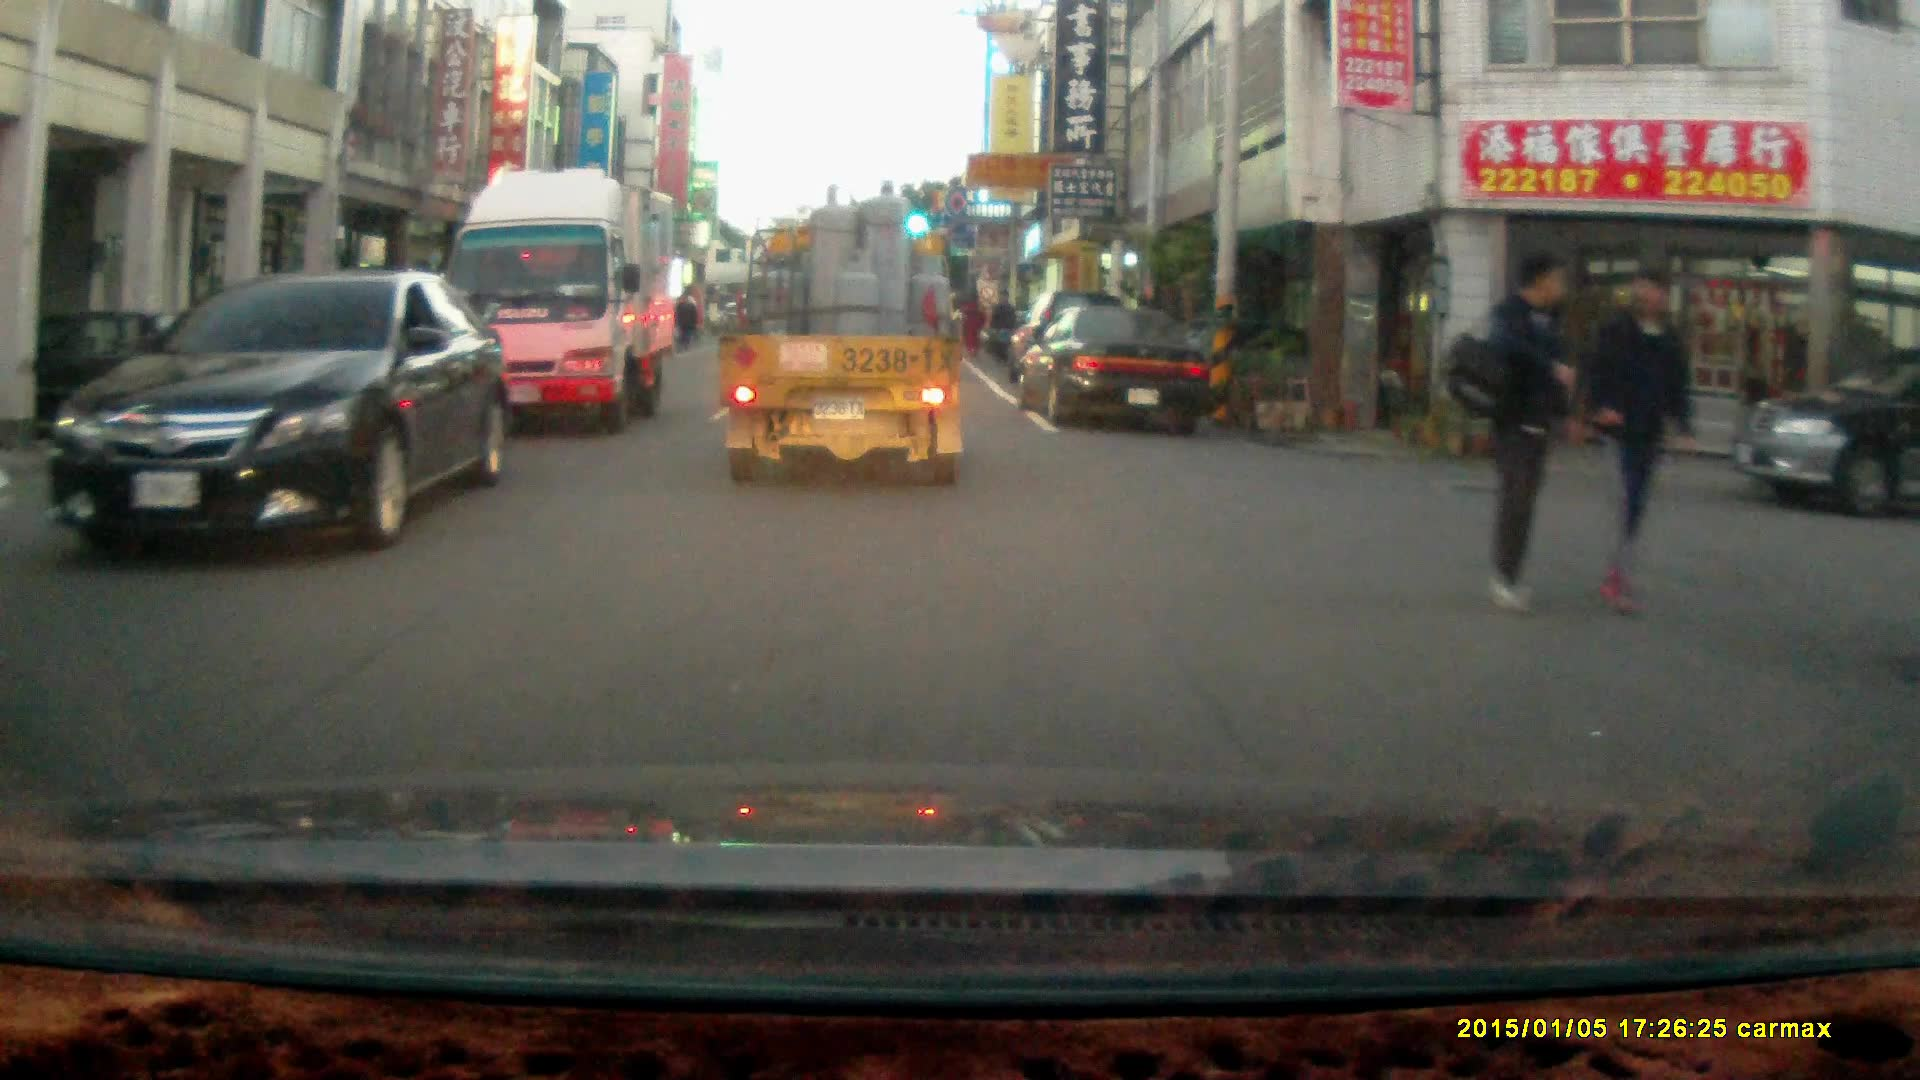pedestrian: (1581, 262, 1697, 620), (1474, 251, 1571, 611), (987, 287, 1017, 366), (960, 286, 987, 360), (668, 290, 698, 351)
vehicle: (40, 266, 503, 555), (724, 175, 969, 487), (442, 166, 678, 435), (1019, 304, 1215, 428)
